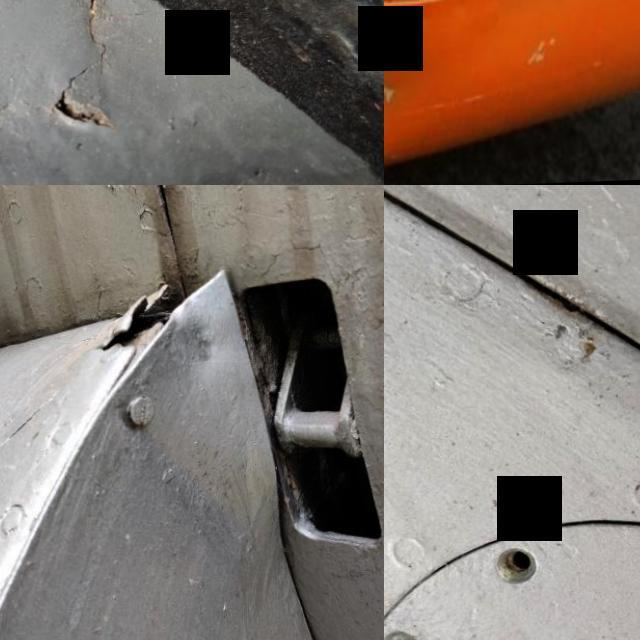Crack: (0, 0, 144, 150), (81, 274, 191, 379)
Missing_Fastener: (477, 526, 555, 604)
